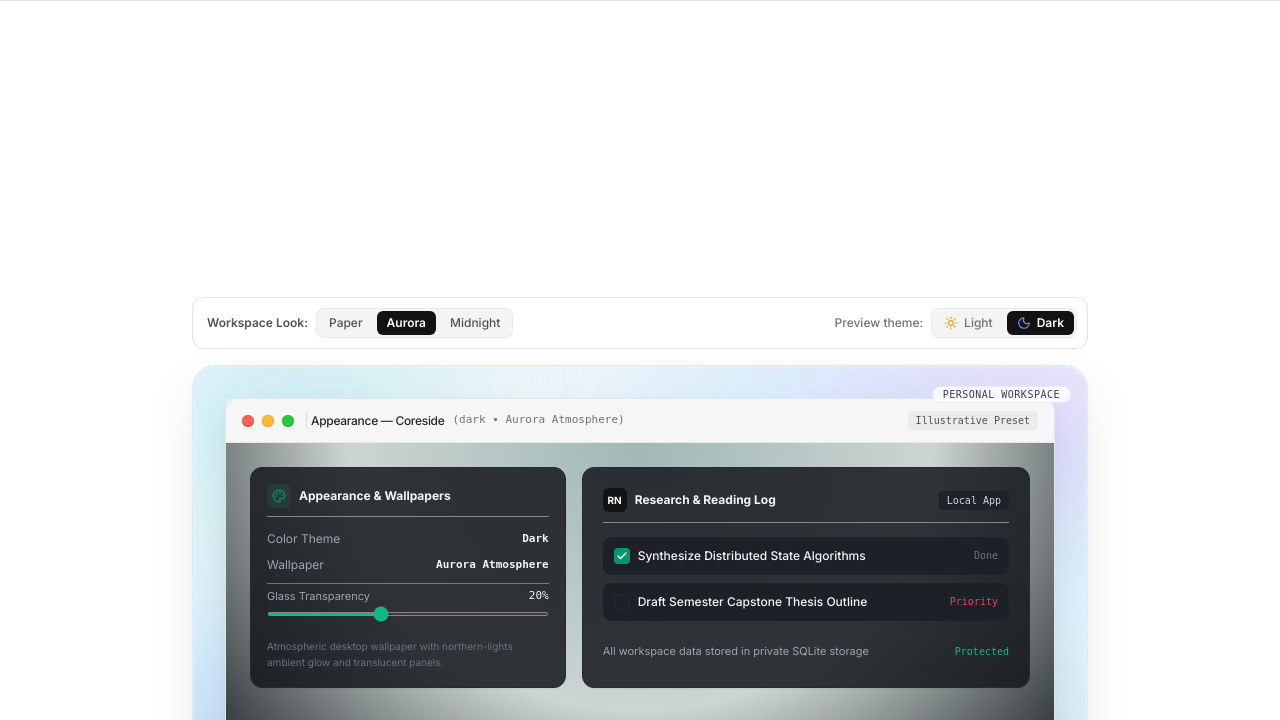
it: Personalization Component (Appearance & Customization) › toggles preview theme between light and dark with isolated tokens
This screenshot has width=1280, height=720.
Check: the button with aria-label "Preview Dark Theme" is shown, box top-left (1007, 311), bottom-right (1074, 335)
Check: the text "Appearance & Wallpapers" is shown, box top-left (299, 488), bottom-right (451, 504)
# Toggle to Light Preview mode
Click the button with aria-label "Preview Light Theme".
click(968, 323)  # box top-left (934, 311), bottom-right (1003, 335)
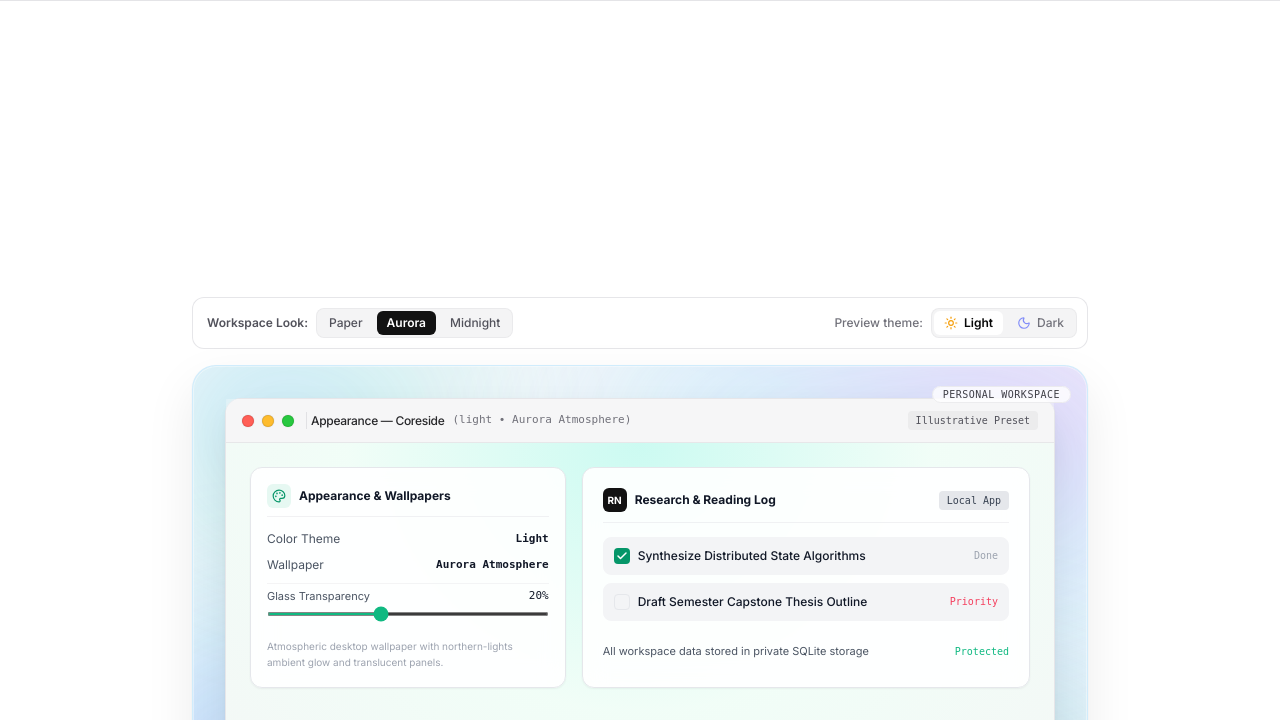
Check: the text "Color Theme" is shown, box top-left (267, 531), bottom-right (340, 547)
Check: the text "light" is shown, box top-left (516, 531), bottom-right (549, 547)
